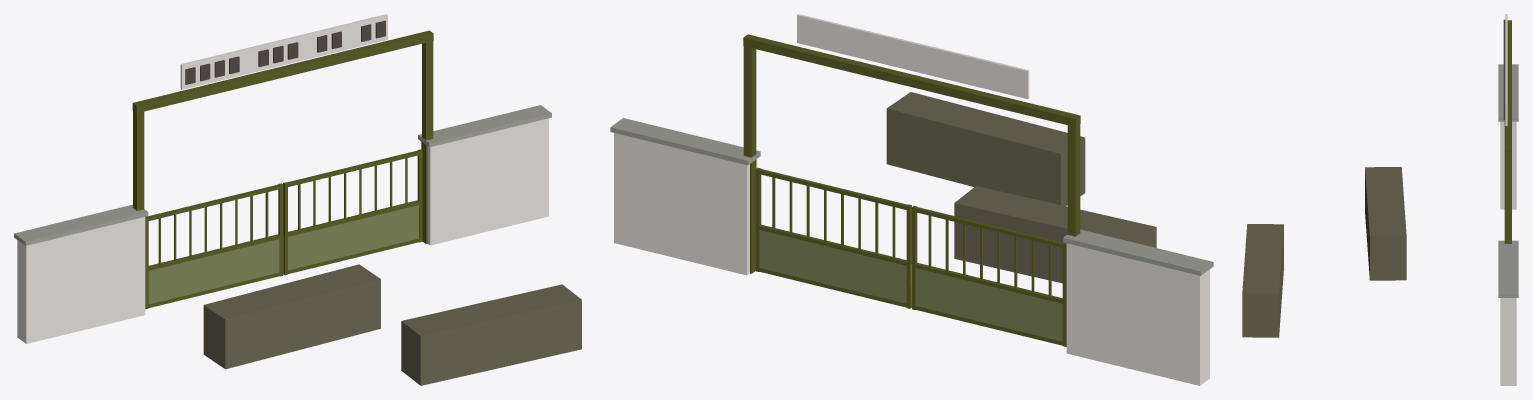
File: SM_PuertaValla_v2_LOD0.fbx
3 views of the same model, side by side, from view 1: azimuth 30°, elevation 25°; view 2: azimuth 150°, elevation 25°; view 3: azimuth 270°, elevation 25° (orthographic). The views are drawn at different scales.
Visible parts, largest first — view 1: SM_puerta_valla_v2_LOD0, Hoja_E, Hoja_O; view 2: SM_puerta_valla_v2_LOD0, Hoja_E, Hoja_O; view 3: SM_puerta_valla_v2_LOD0.
Part boxes in pixels (x1=…): SM_puerta_valla_v2_LOD0: x1=14, y1=14, x2=581, y2=385; Hoja_E: x1=283, y1=149, x2=422, y2=275; Hoja_O: x1=145, y1=183, x2=283, y2=309; SM_puerta_valla_v2_LOD0: x1=610, y1=14, x2=1213, y2=385; Hoja_E: x1=755, y1=167, x2=911, y2=308; Hoja_O: x1=912, y1=206, x2=1066, y2=346; SM_puerta_valla_v2_LOD0: x1=1242, y1=14, x2=1518, y2=385.
Bounding box in the file's own units: 13.3 × 5.75 × 6.76.
